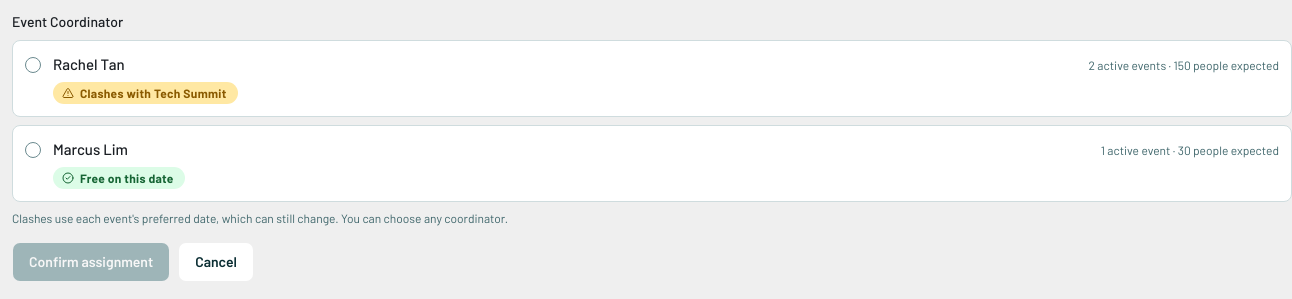
Test case: SCRUM-168 — choosing a coordinator › SCRUM-168/AC4 still lets the Lead choose and confirm a coordinator who clashes
This screenshot has width=1292, height=299.
Click the radio button named "Rachel Tan" next to "Rachel Tan" at {"x": 33, "y": 65}, box [25,57,41,73]
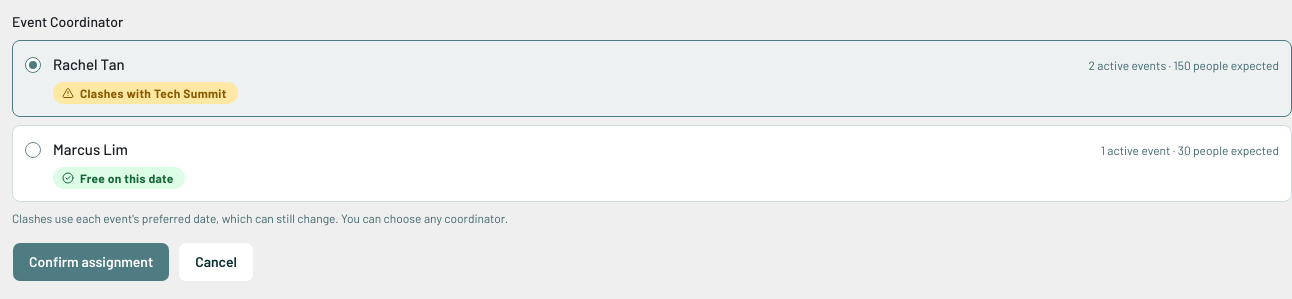
Click the button "Confirm assignment" at {"x": 91, "y": 262}, box [12,242,170,282]
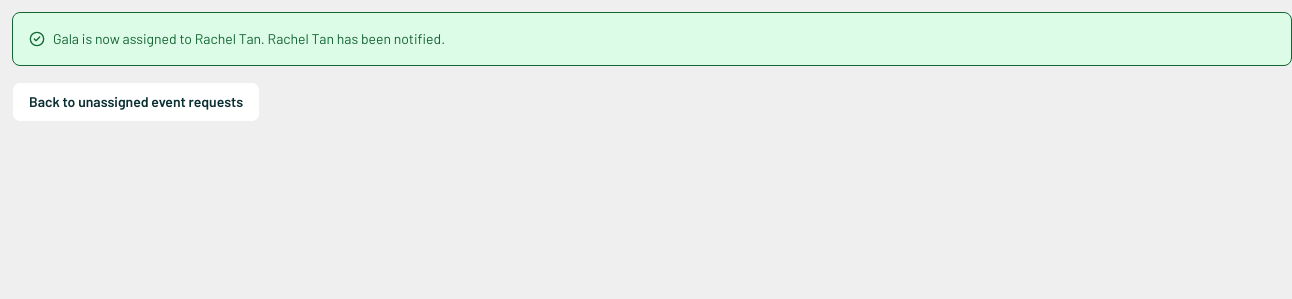
Check: the message shows "Gala is now assigned to Rachel Tan.", box [12,12,1291,66]
